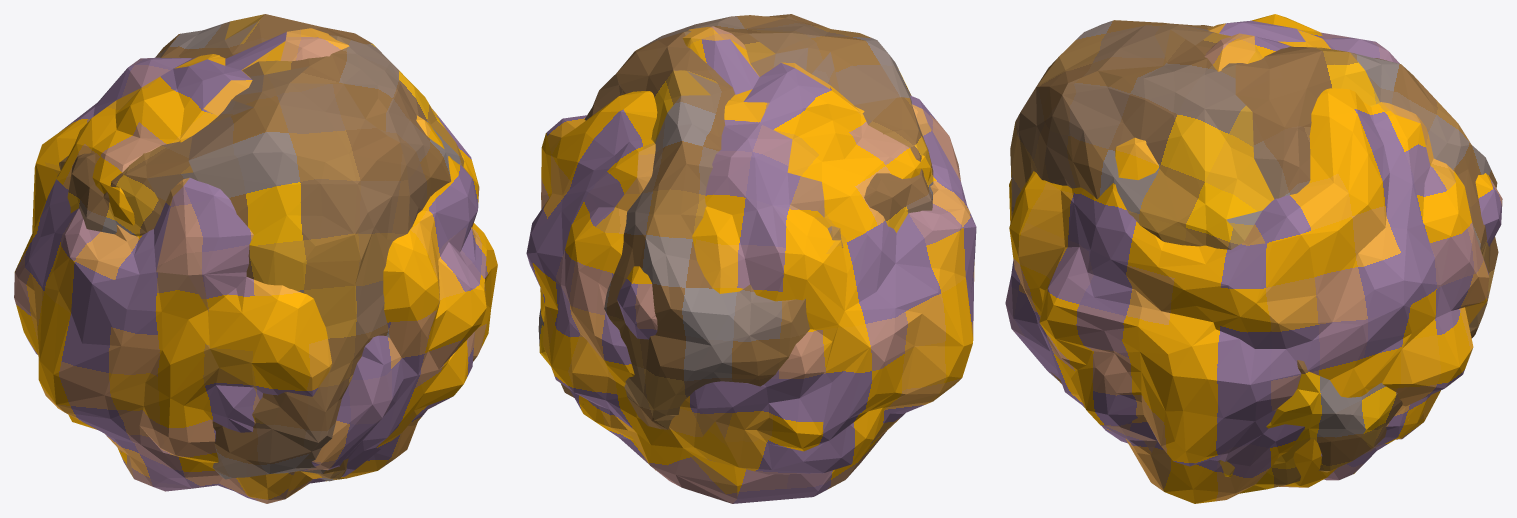
File: asteroids.fbx
The picture shows the model from 3 angles, left to right: view 1: azimuth 30°, elevation 25°; view 2: azimuth 150°, elevation 25°; view 3: azimuth 270°, elevation 25°; orthographic projection. The views are drawn at different scales.
Parts seen in each view (by area): view 1: Asteroid2, Asteroid1; view 2: Asteroid2, Asteroid1; view 3: Asteroid2, Asteroid1.
Boxes of the visible parts, bbox=[...] form: Asteroid2: bbox=[14, 28, 497, 503]; Asteroid1: bbox=[57, 14, 464, 481]; Asteroid2: bbox=[526, 26, 976, 503]; Asteroid1: bbox=[538, 14, 933, 429]; Asteroid2: bbox=[1005, 14, 1502, 503]; Asteroid1: bbox=[1010, 20, 1498, 493].
Size of the model in its own units: 2788 by 2719 by 2712.
